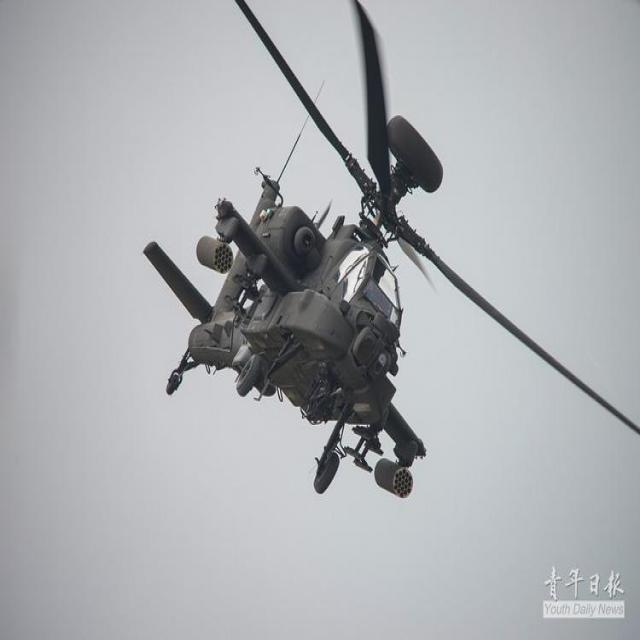MIL_HELO: (131, 0, 640, 525)
